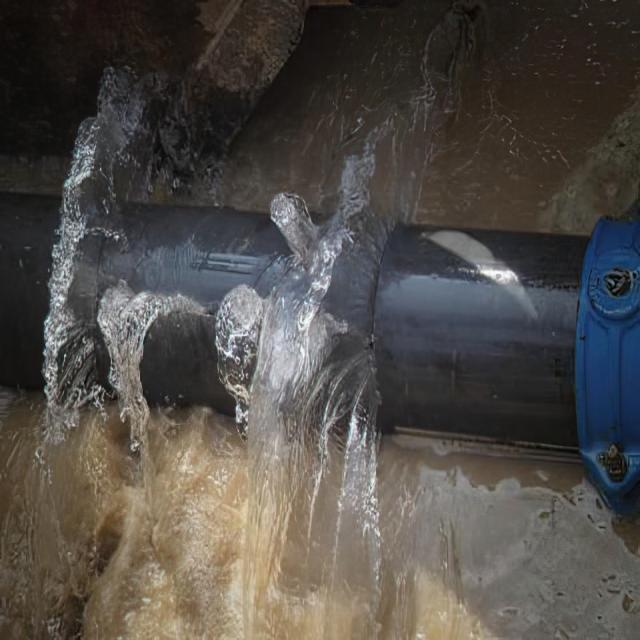leak: (244, 3, 481, 637), (0, 68, 199, 638)
